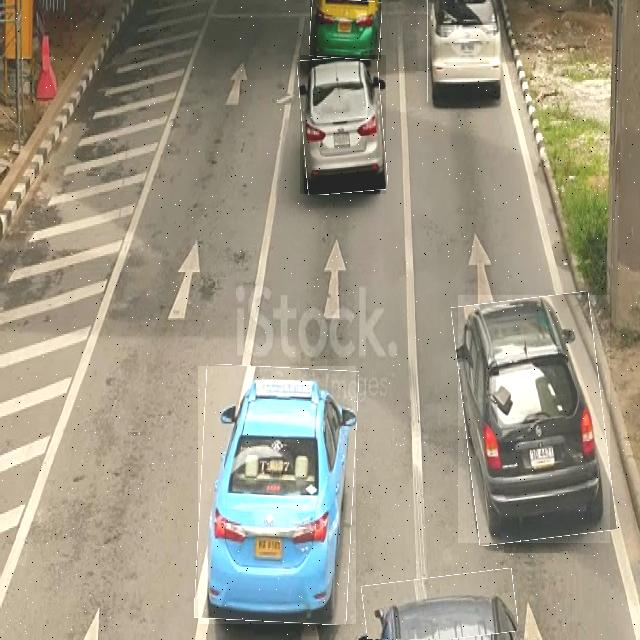Car: (198, 366, 356, 624), (458, 295, 610, 543), (300, 55, 386, 194), (362, 572, 516, 640), (427, 0, 504, 102), (310, 0, 381, 59)
